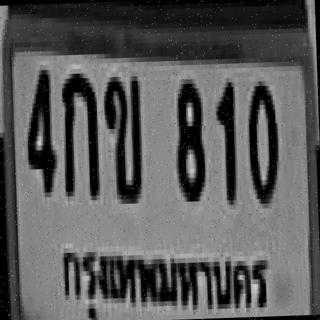A01: (59, 68, 98, 196)
A02: (101, 71, 142, 199)
N00: (245, 76, 278, 199)
N01: (213, 78, 236, 200)
N04: (23, 65, 54, 193)
N08: (173, 74, 204, 197)
P04: (55, 228, 274, 320)
